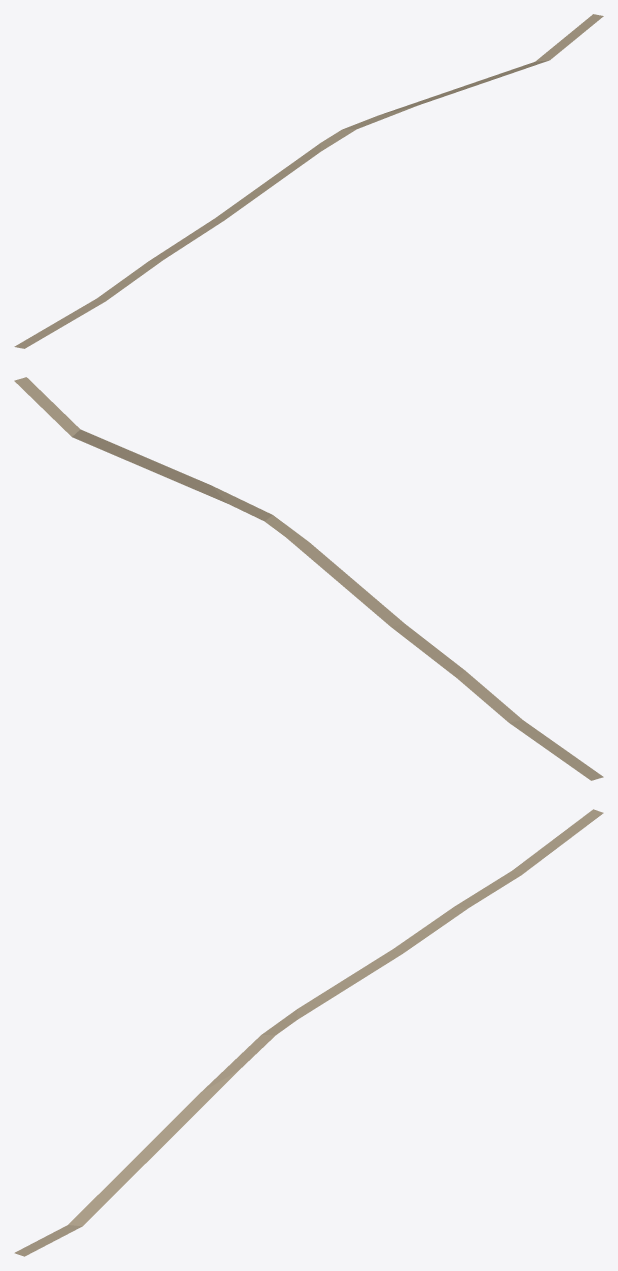
File: farm_-34_-31_track.glb
3 renders of one model, top to bottom at view 1: azimuth 90°, elevation 25°; view 2: azimuth 150°, elevation 25°; view 3: azimuth 270°, elevation 25°, orthographic. The views are drawn at different scales.
Parts seen in each view (by area): view 1: geometry_0; view 2: geometry_0; view 3: geometry_0.
Part boxes in pixels (x1,y1,x2,y2): geometry_0: [14, 14, 603, 348]; geometry_0: [14, 377, 603, 780]; geometry_0: [14, 809, 603, 1256].
Size of the model in its own units: 242 by 18.7 by 154.
